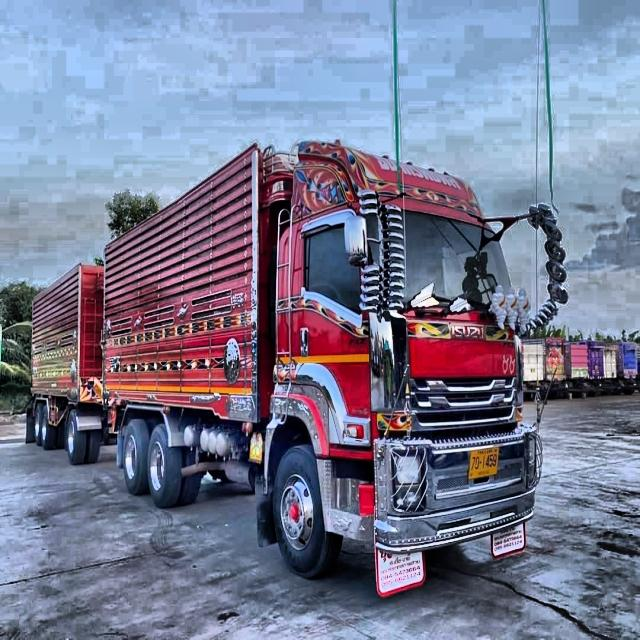trailer: (14, 122, 551, 590)
